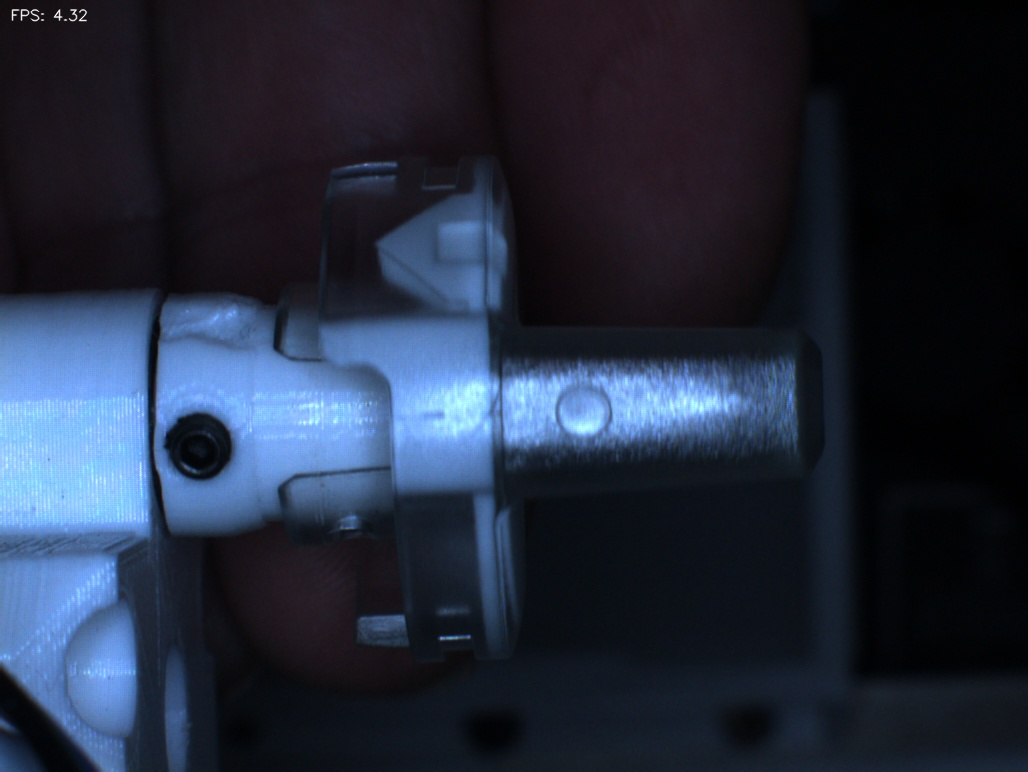DentOk: (357, 209, 428, 312)
